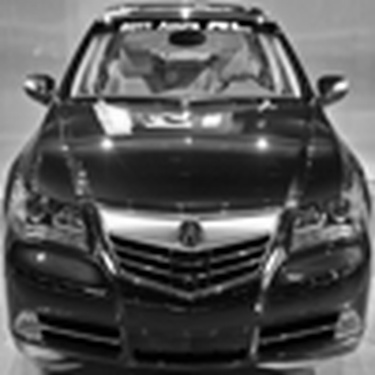car: (12, 1, 339, 343)
